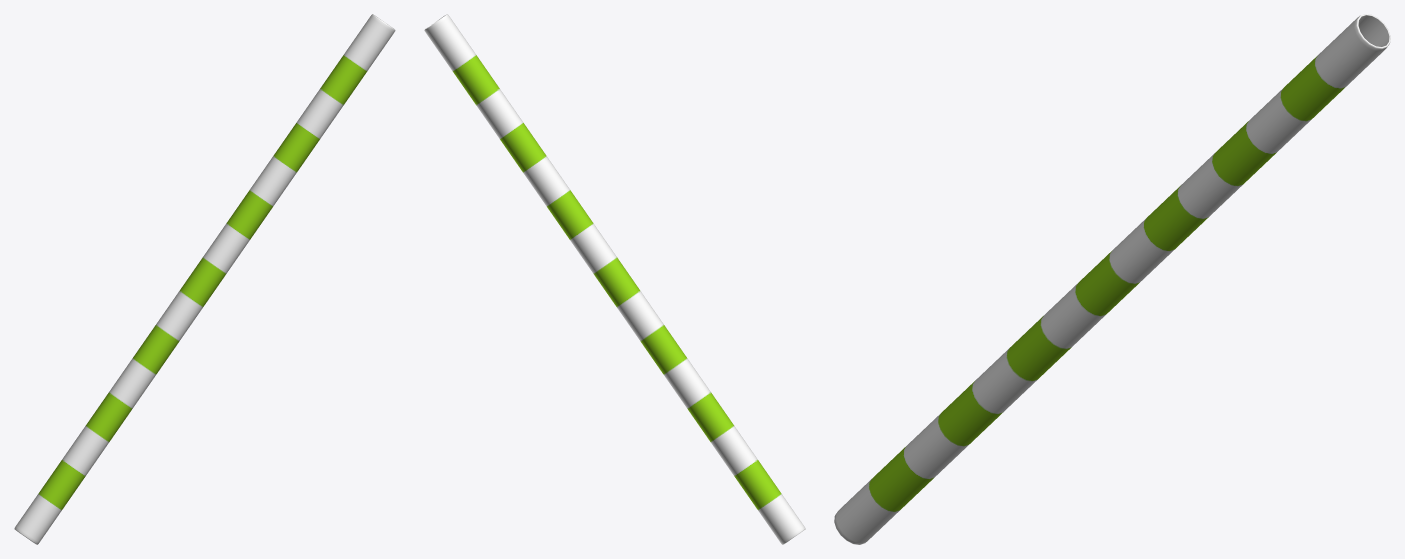
File: Pitillo_variacion_color.glb
3 renders of one model, left to right at view 1: azimuth 30°, elevation 25°; view 2: azimuth 150°, elevation 25°; view 3: azimuth 330°, elevation 25°, orthographic. The views are drawn at different scales.
Visible parts, largest first — view 1: Pitillo; view 2: Pitillo; view 3: Pitillo.
Part boxes in pixels (x1,y1,x2,y2): Pitillo: (14, 14, 395, 544); Pitillo: (424, 14, 805, 544); Pitillo: (834, 14, 1390, 544).
Bounding box in the file's own units: 11.08 × 12.5 × 0.7414.
1 material, 1 textured.
